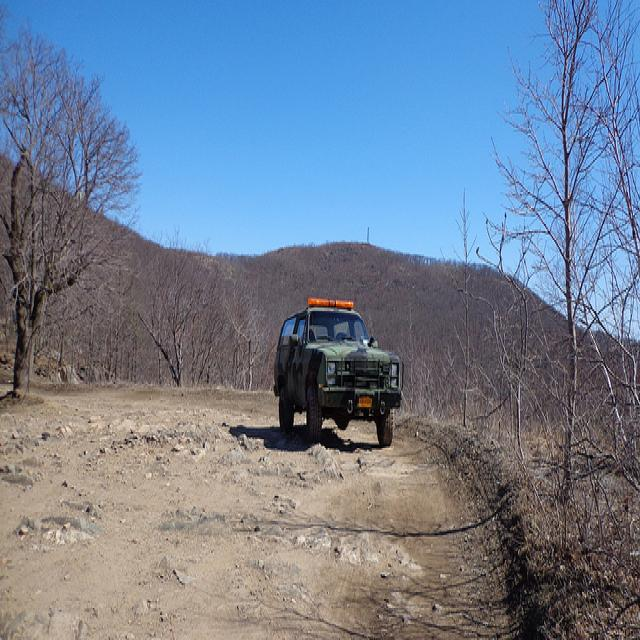Vehicle: (271, 293, 400, 448)
